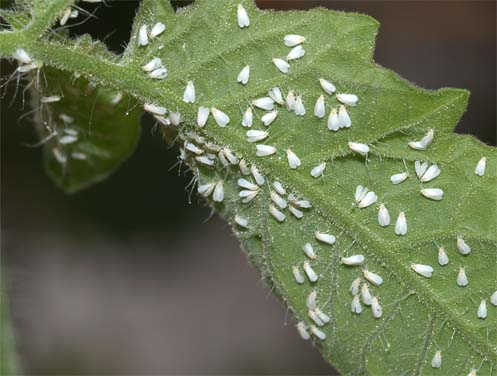whitefly: (210, 104, 230, 129), (361, 267, 384, 286), (267, 202, 287, 223), (420, 164, 442, 183), (337, 103, 353, 129), (419, 186, 445, 202), (346, 140, 369, 158), (334, 91, 359, 107), (327, 105, 341, 133), (238, 188, 261, 205), (269, 85, 285, 109), (196, 103, 210, 130), (260, 108, 278, 129), (376, 202, 391, 227), (271, 57, 293, 74), (10, 47, 32, 64), (249, 163, 265, 186), (283, 33, 309, 47), (197, 181, 216, 200), (235, 4, 250, 28), (182, 80, 197, 104), (305, 308, 325, 326), (236, 176, 260, 191), (302, 261, 318, 283), (143, 102, 168, 116), (368, 295, 383, 318), (318, 77, 336, 96), (358, 191, 378, 208), (251, 97, 277, 110), (212, 178, 225, 204), (286, 148, 302, 169), (254, 143, 278, 157), (419, 127, 433, 151), (394, 212, 408, 236), (410, 263, 434, 277), (360, 282, 374, 306), (246, 129, 271, 142), (148, 22, 166, 40), (268, 191, 286, 209), (141, 58, 161, 74), (456, 235, 471, 256), (348, 293, 363, 314), (290, 265, 305, 286), (340, 255, 364, 268), (237, 64, 251, 86), (314, 231, 336, 245), (301, 243, 319, 260), (148, 65, 167, 81), (314, 94, 326, 119), (390, 171, 410, 186), (414, 159, 428, 180), (355, 184, 369, 205), (310, 161, 327, 178), (285, 89, 297, 113), (293, 95, 306, 117), (456, 265, 469, 287), (241, 107, 253, 130), (474, 156, 487, 177), (349, 275, 362, 296), (430, 349, 443, 369), (272, 180, 287, 197), (138, 25, 149, 48), (306, 291, 318, 312), (314, 308, 330, 323), (477, 298, 487, 320), (294, 198, 312, 210), (438, 247, 449, 266)
